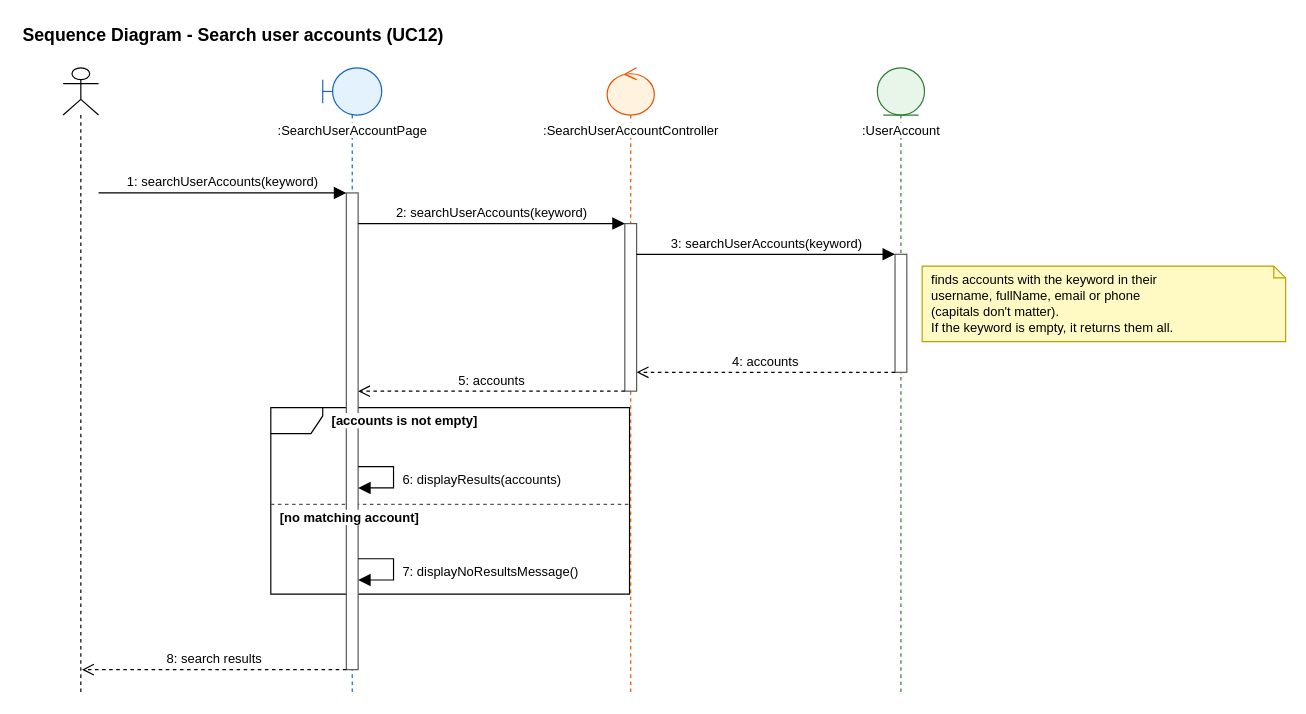
This 1306x714 diagram has some shape labels left out. Each missing label, with the box of its shape:
alt: (270, 407, 630, 594)
User Admin: (62, 67, 99, 693)
